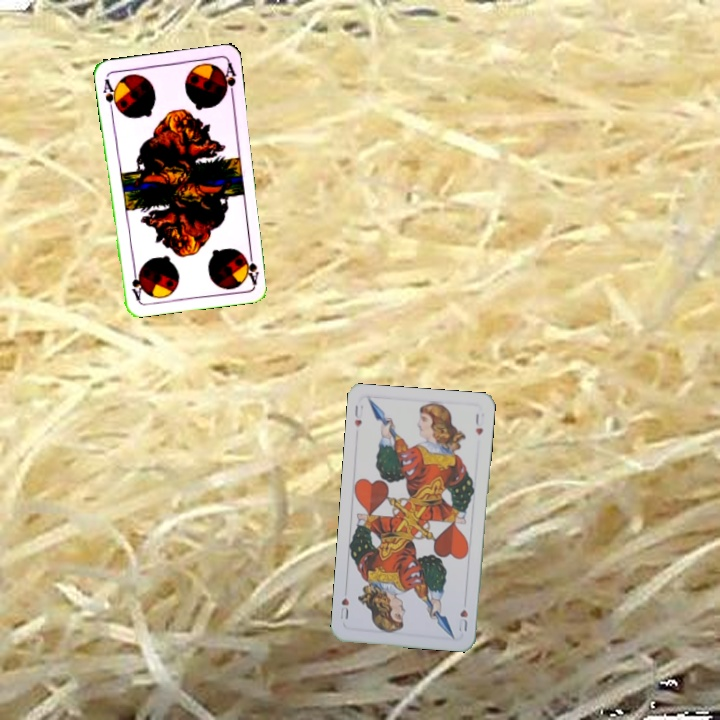HU: (455, 605, 470, 634), (350, 401, 364, 430)
SA: (99, 75, 121, 114), (242, 246, 262, 286)
